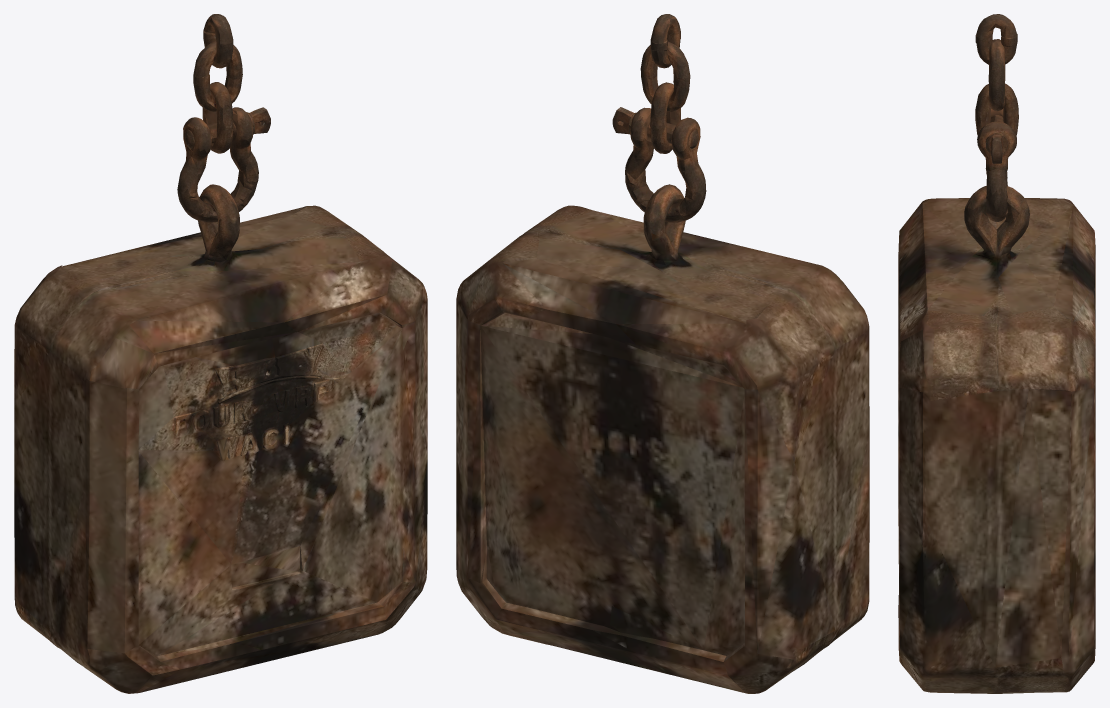
Rendered from counterweight.glb.
The picture shows the model from 3 angles, left to right: view 1: azimuth 30°, elevation 25°; view 2: azimuth 150°, elevation 25°; view 3: azimuth 270°, elevation 25°; orthographic projection.
Parts seen in each view (by area): view 1: Mesh_0; view 2: Mesh_0; view 3: Mesh_0.
Part boxes in pixels (<box>): Mesh_0: <box>14,14,427,693</box>; Mesh_0: <box>456,14,869,693</box>; Mesh_0: <box>898,14,1095,693</box>.
Bounding box in the file's own units: 1.1 × 1.9 × 0.5517.
Materials: 1 (1 with a texture image).
